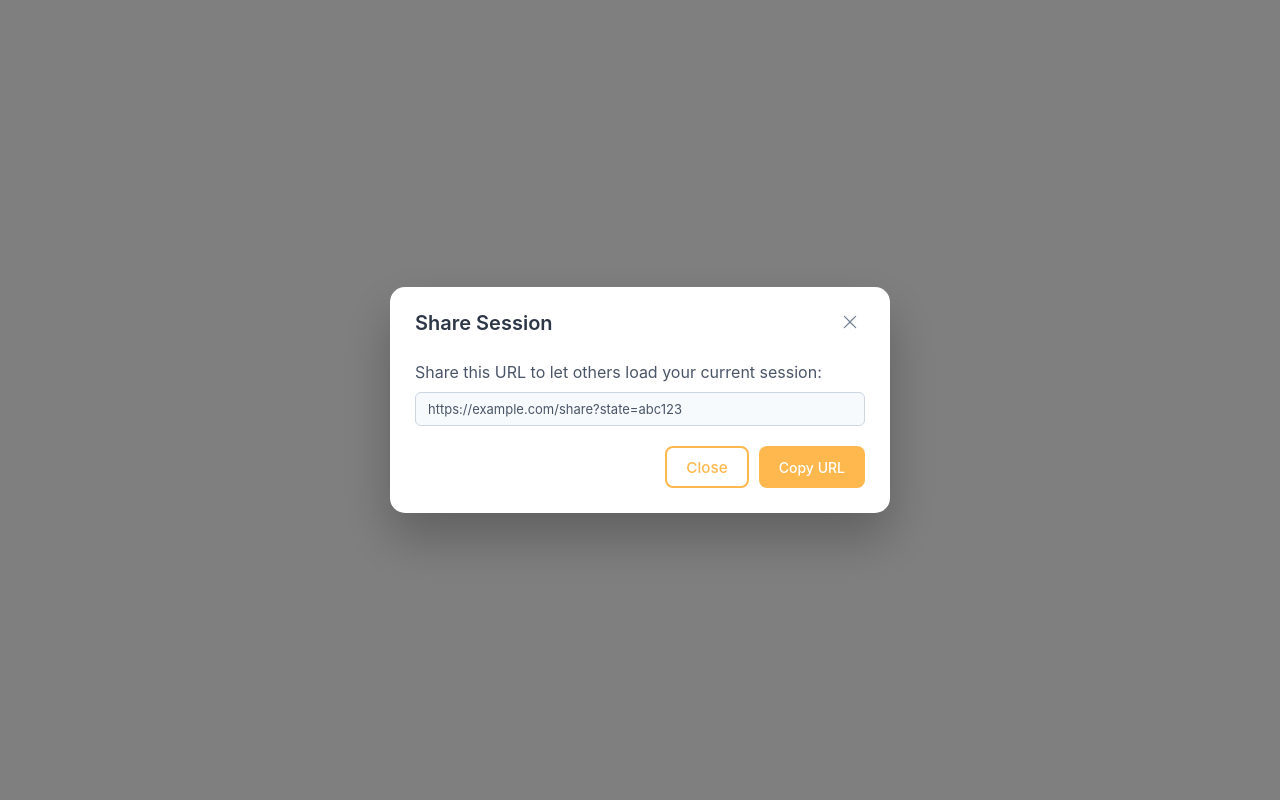
Scenario: ShareModal Component › User Interactions › should show "Copied!" after clicking Copy URL
The image size is (1280, 800).
Click the button with test id "copy-share-url-button". click: [812, 467]
box: [759, 446, 865, 488]
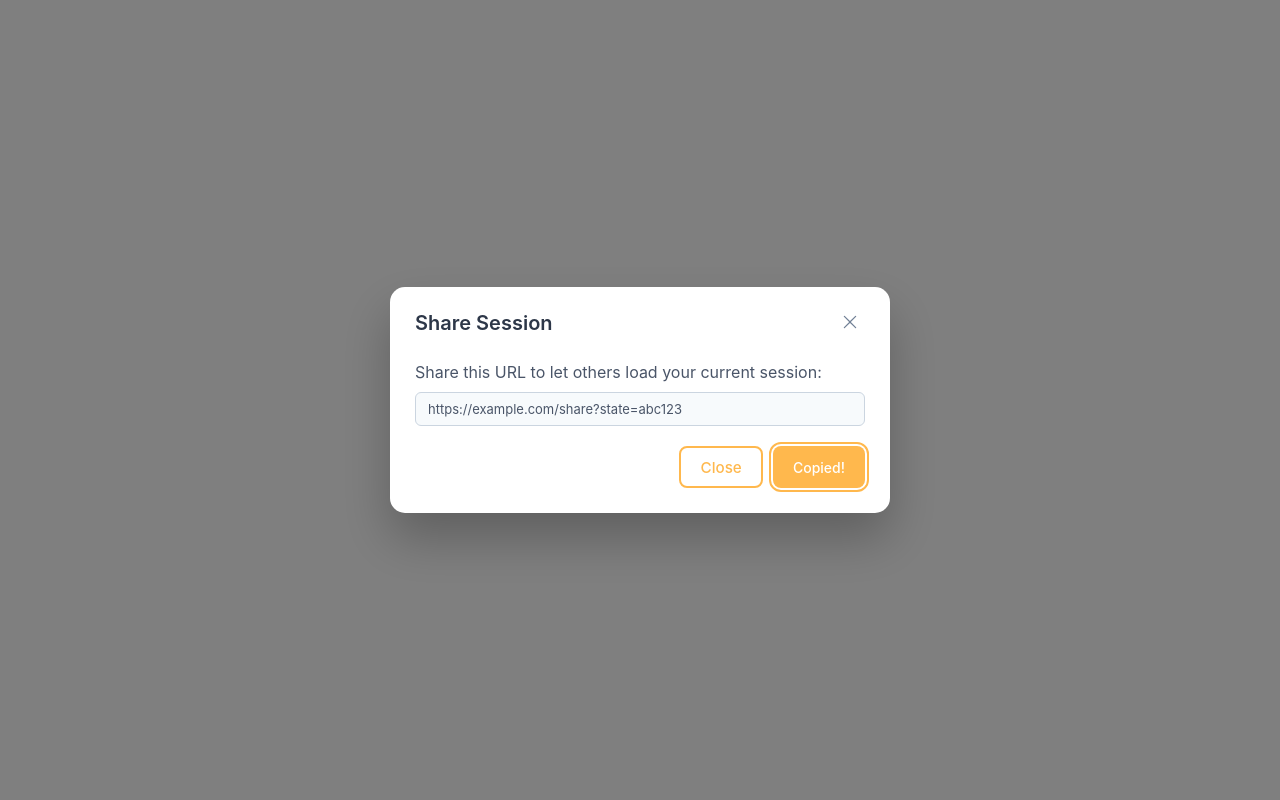
Check: the button with test id "copy-share-url-button" reads "Copied!", box [773, 446, 865, 488]
